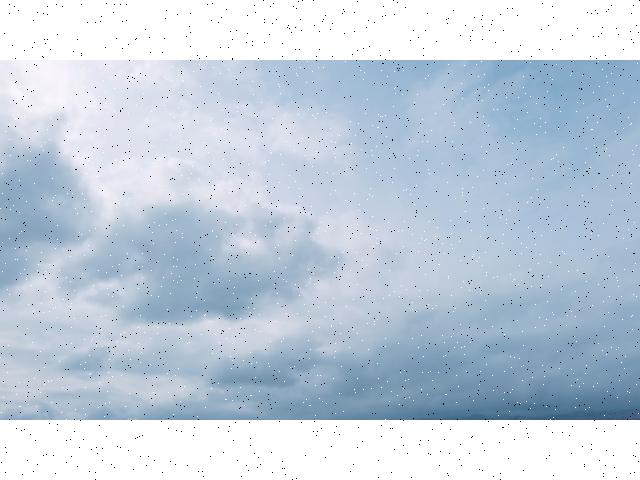Anti-Drone: (278, 302, 288, 310)
